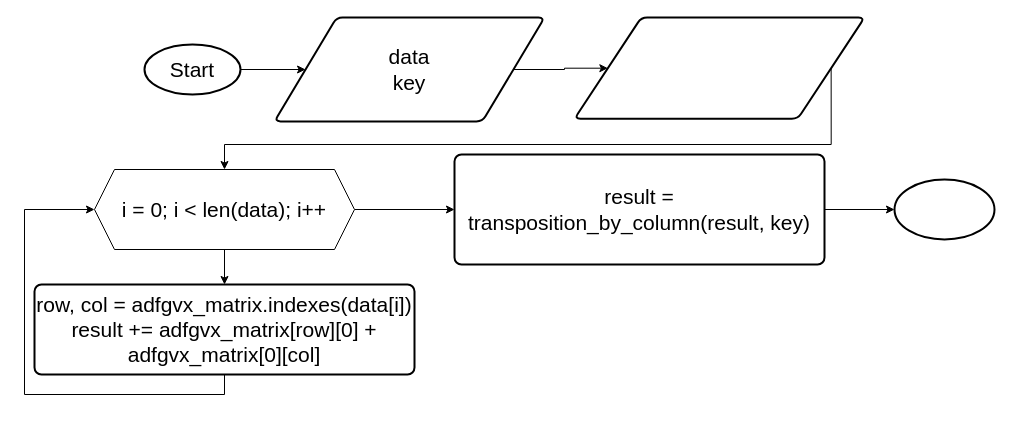
The diagram is 1013 pixels wide and 421 high, and some of its shapes have lost their labels. The shapes that lost their labels are listed below. From the top down, each one's centre as x and y in pixels, then its label:
point (719, 67): adfgvx_matrix[7][7] result = ""
point (944, 209): End
